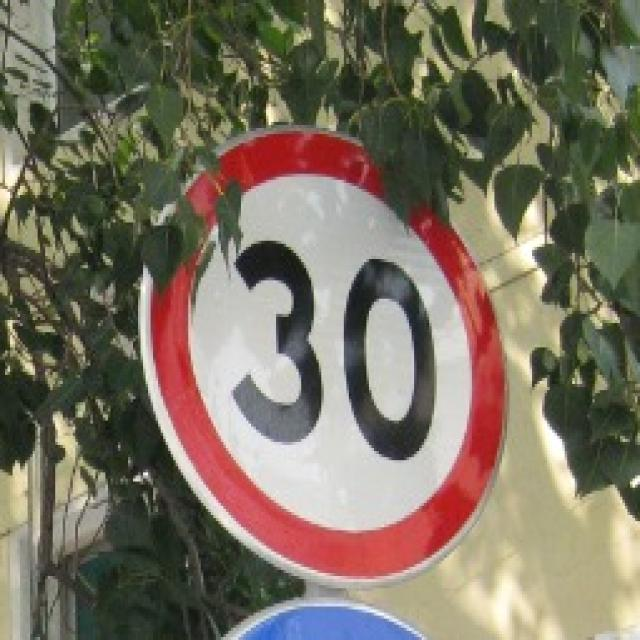Speed Limit -30-: (231, 240, 440, 465)
